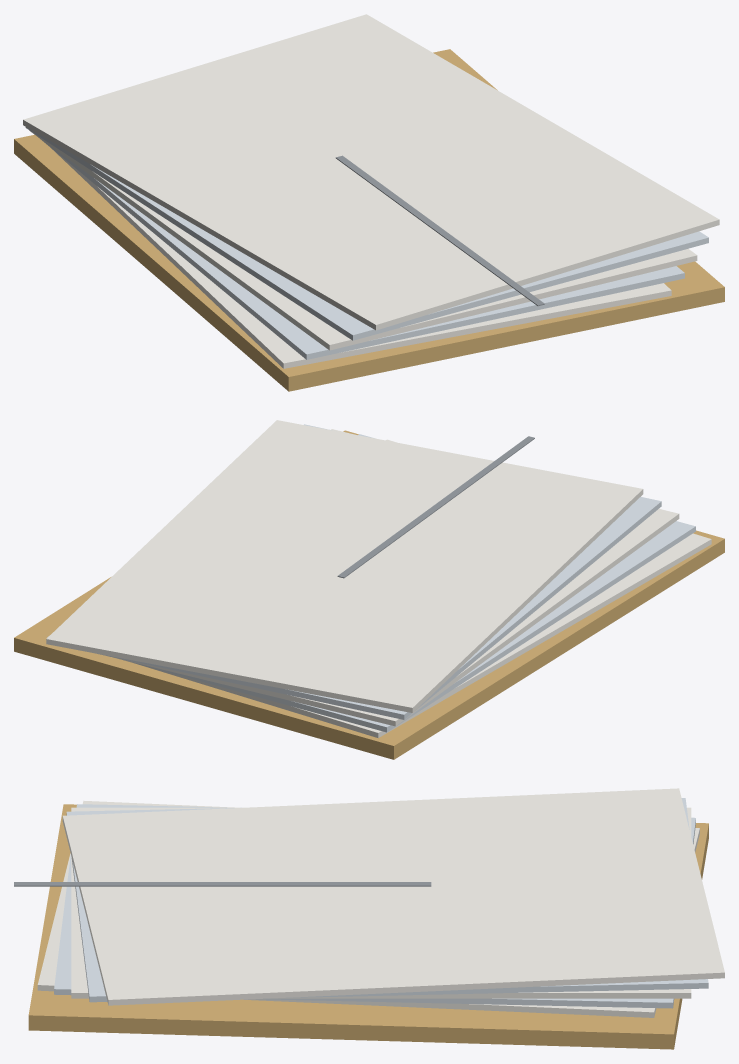
File: paper_stack.glb
3 views of the same model, one above another, from view 1: azimuth 30°, elevation 25°; view 2: azimuth 150°, elevation 25°; view 3: azimuth 270°, elevation 25° (orthographic). The views are drawn at different scales.
Parts seen in each view (by area): view 1: PaperStack; view 2: PaperStack; view 3: PaperStack.
Boxes of the visible parts, x1,y1,x2,y2 form: PaperStack: (14,14,724,391); PaperStack: (14,420,724,759); PaperStack: (14,788,724,1049).
Bounding box in the file's own units: 0.261 × 0.0268 × 0.3407.
